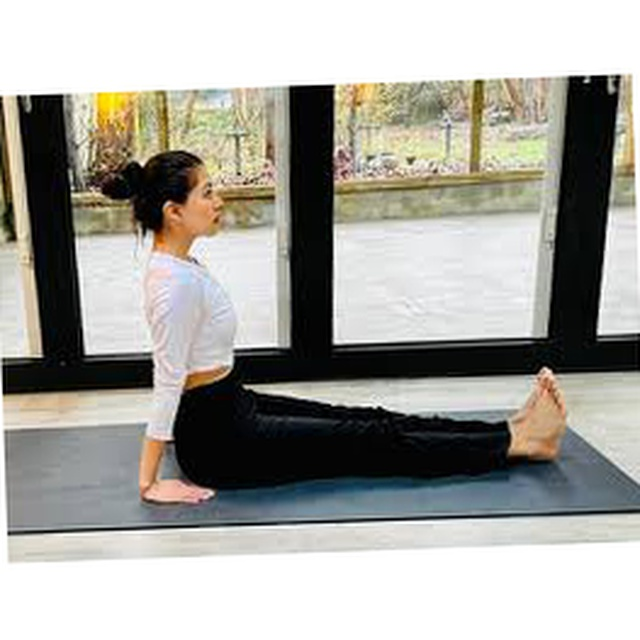Staff_Pose: (101, 150, 566, 506)
